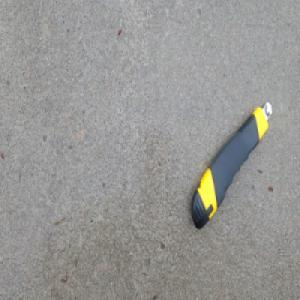Cutter: (190, 101, 273, 231)
